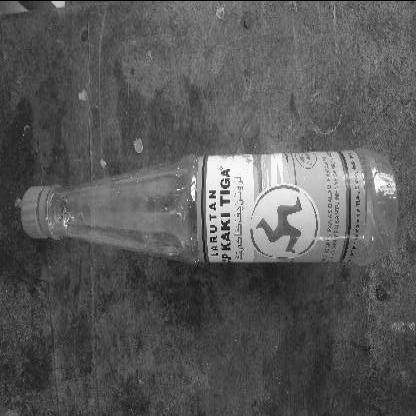plastic_bottles: (18, 146, 402, 263)
